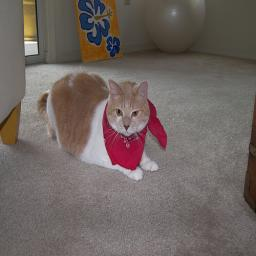catnose: (124, 123, 131, 132)
